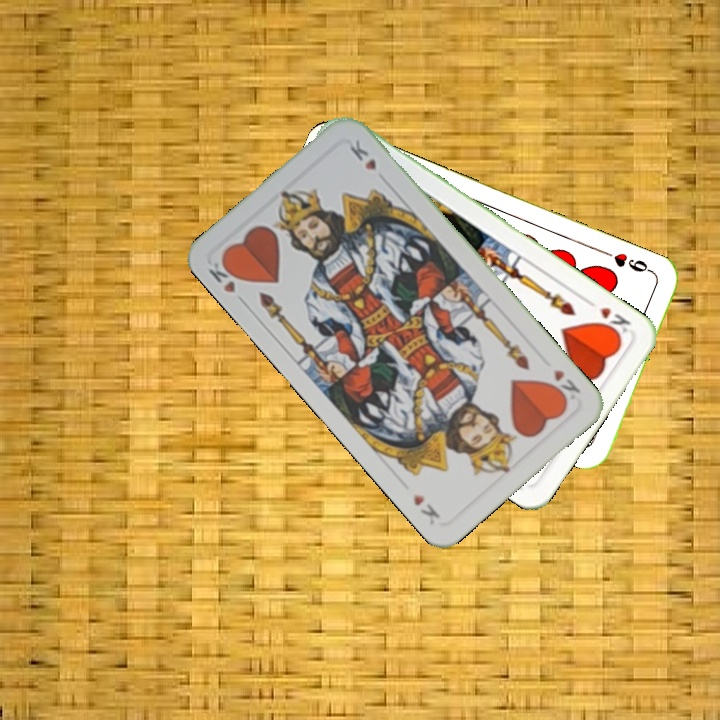H9: (600, 246, 657, 277)
HK: (204, 252, 249, 308), (582, 295, 634, 340), (544, 365, 583, 406)
